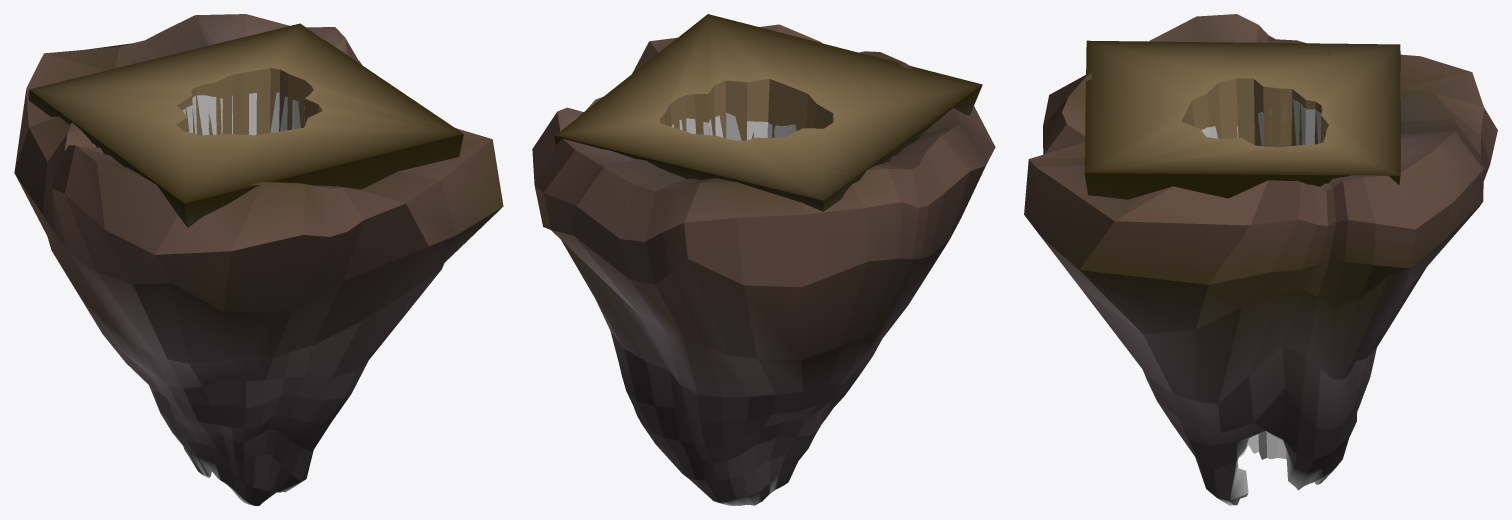
Rendered from islandhole.fbx.
The picture shows the model from 3 angles, left to right: view 1: azimuth 30°, elevation 25°; view 2: azimuth 150°, elevation 25°; view 3: azimuth 270°, elevation 25°; orthographic projection.
Parts seen in each view (by area): view 1: Sphere, Cube.012; view 2: Sphere, Cube.012; view 3: Sphere, Cube.012.
Boxes of the visible parts, box(x1,y1,x2,y2) form: Sphere: box(14, 14, 503, 505); Cube.012: box(28, 23, 463, 227); Sphere: box(532, 24, 995, 505); Cube.012: box(554, 14, 982, 211); Sphere: box(1024, 14, 1497, 505); Cube.012: box(1084, 40, 1400, 199).
Bounding box in the file's own units: 2211 × 2238 × 2435.
